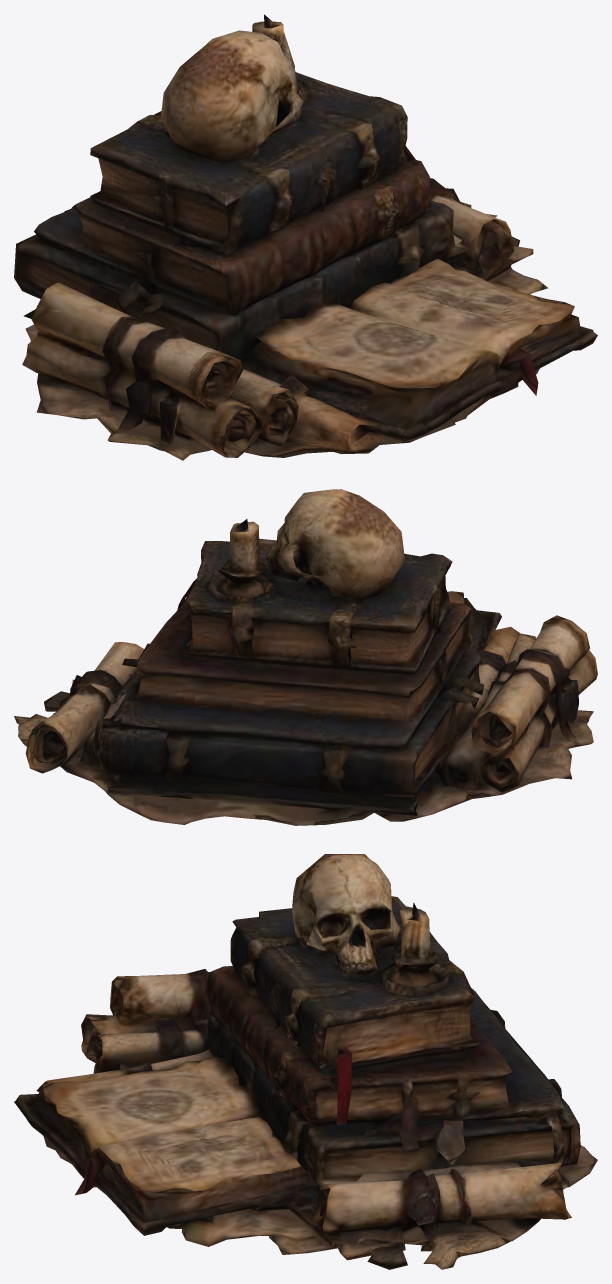
The model's file is books.glb.
The picture shows the model from 3 angles, top to bottom: view 1: azimuth 30°, elevation 25°; view 2: azimuth 150°, elevation 25°; view 3: azimuth 270°, elevation 25°; orthographic projection. The views are drawn at different scales.
Parts seen in each view (by area): view 1: books; view 2: books; view 3: books.
Boxes of the visible parts, x1,y1,x2,y2 form: books: (14, 14, 597, 460); books: (14, 489, 597, 825); books: (14, 854, 597, 1269).
Bounding box in the file's own units: 1.2 × 0.62 × 1.19.
1 material, 1 textured.
